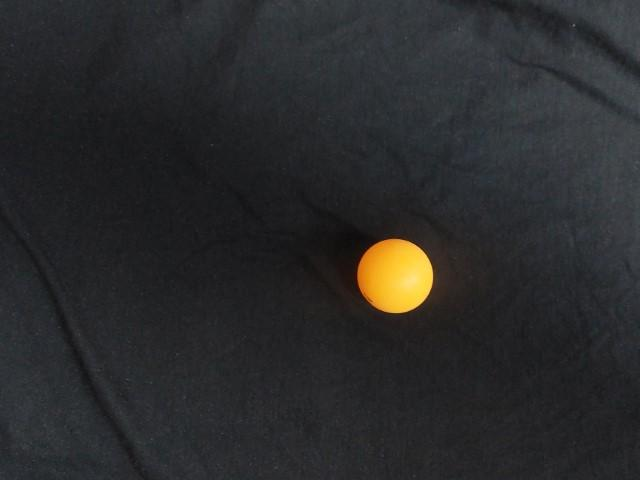oball: (352, 235, 438, 321)
